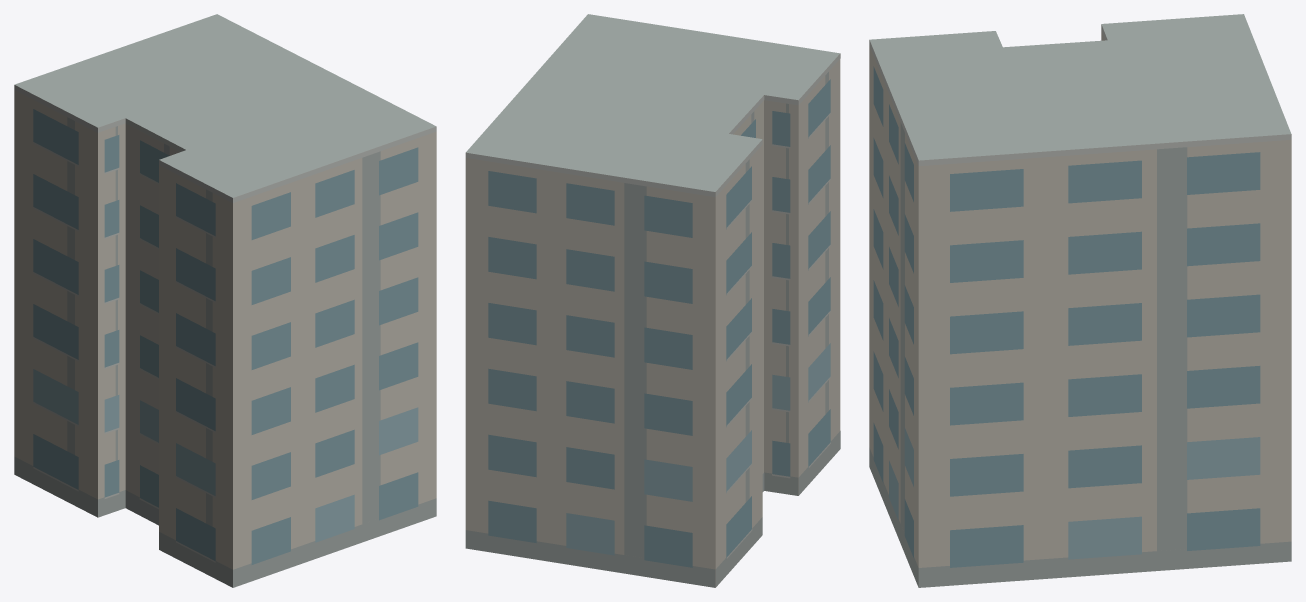
File: survey-upis-33004854.glb
3 views of the same model, side by side, from view 1: azimuth 30°, elevation 25°; view 2: azimuth 150°, elevation 25°; view 3: azimuth 270°, elevation 25° (orthographic). The views are drawn at different scales.
Visible parts, largest first — view 1: survey-upis-33004854.tmp; view 2: survey-upis-33004854.tmp; view 3: survey-upis-33004854.tmp.
Boxes of the visible parts, <box> form: survey-upis-33004854.tmp: <box>14,14,436,587</box>; survey-upis-33004854.tmp: <box>465,14,840,587</box>; survey-upis-33004854.tmp: <box>869,14,1291,587</box>.
Bounding box in the file's own units: 13.54 × 18.4 × 16.48.
